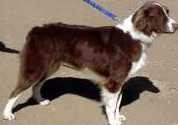dog: (3, 6, 178, 125)
